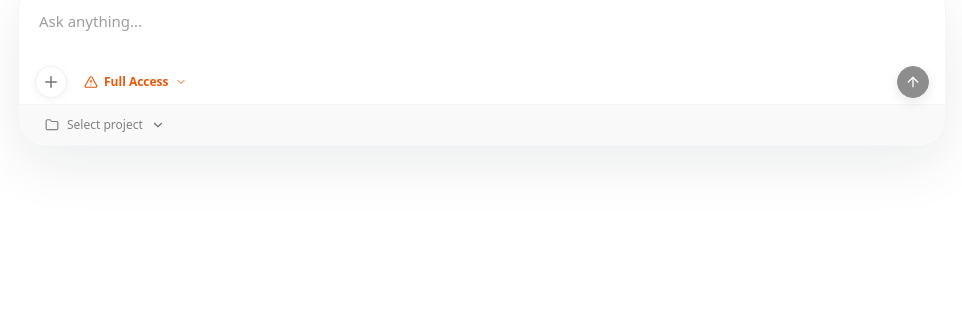
Scenario: ThreadComposer › uses the web path menu for project selection
Press the mouse on the button with aria-label "Choose project" at [105, 125], box [35,111,175,139]
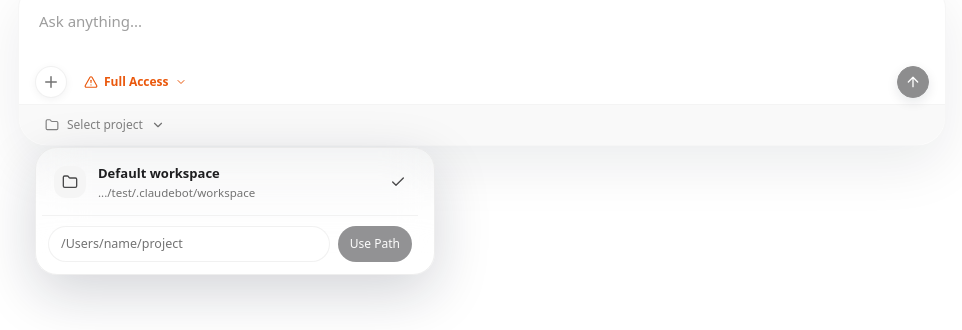
Expected: the menu item "Default workspace .../test/.claudebot/workspace" is shown, [42,154,418,211]
Expected: the field named "Paste path" is shown, [48,226,330,262]
